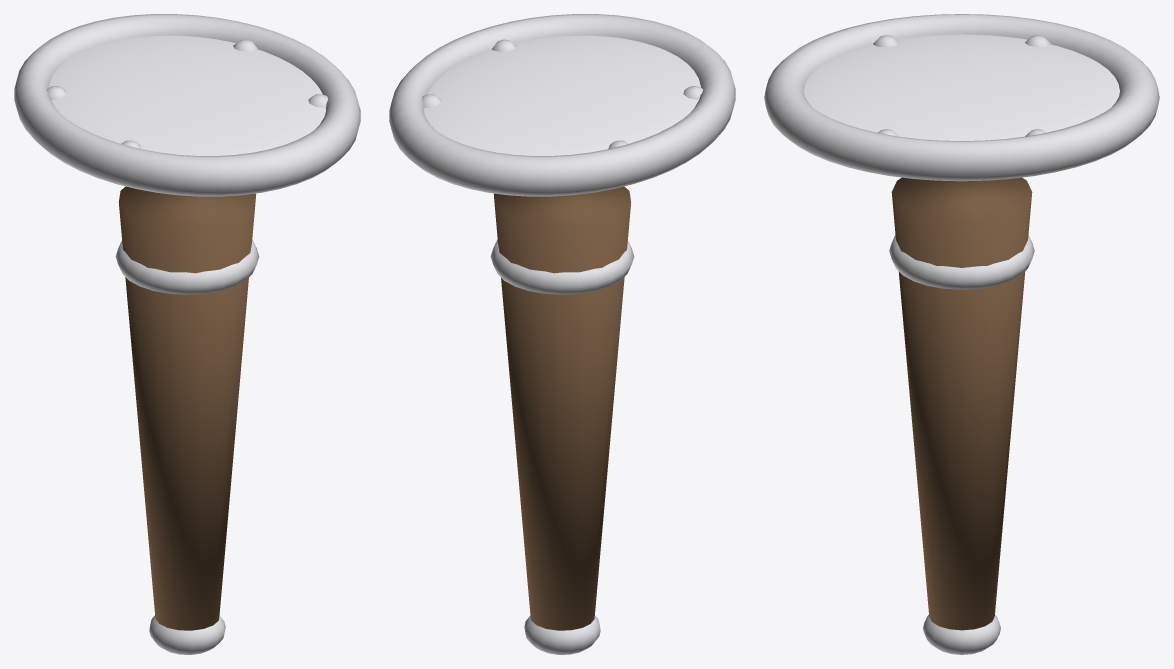
Rendered from mirror_hand.glb.
3 views of the same model, side by side, from view 1: azimuth 30°, elevation 25°; view 2: azimuth 150°, elevation 25°; view 3: azimuth 270°, elevation 25° (orthographic).
Parts seen in each view (by area): view 1: mirror_hand; view 2: mirror_hand; view 3: mirror_hand.
Boxes of the visible parts, x1=… form: mirror_hand: x1=14, y1=14, x2=360, y2=654; mirror_hand: x1=389, y1=14, x2=735, y2=654; mirror_hand: x1=764, y1=14, x2=1159, y2=654.
Size of the model in its own units: 0.1292 by 0.242 by 0.152.
